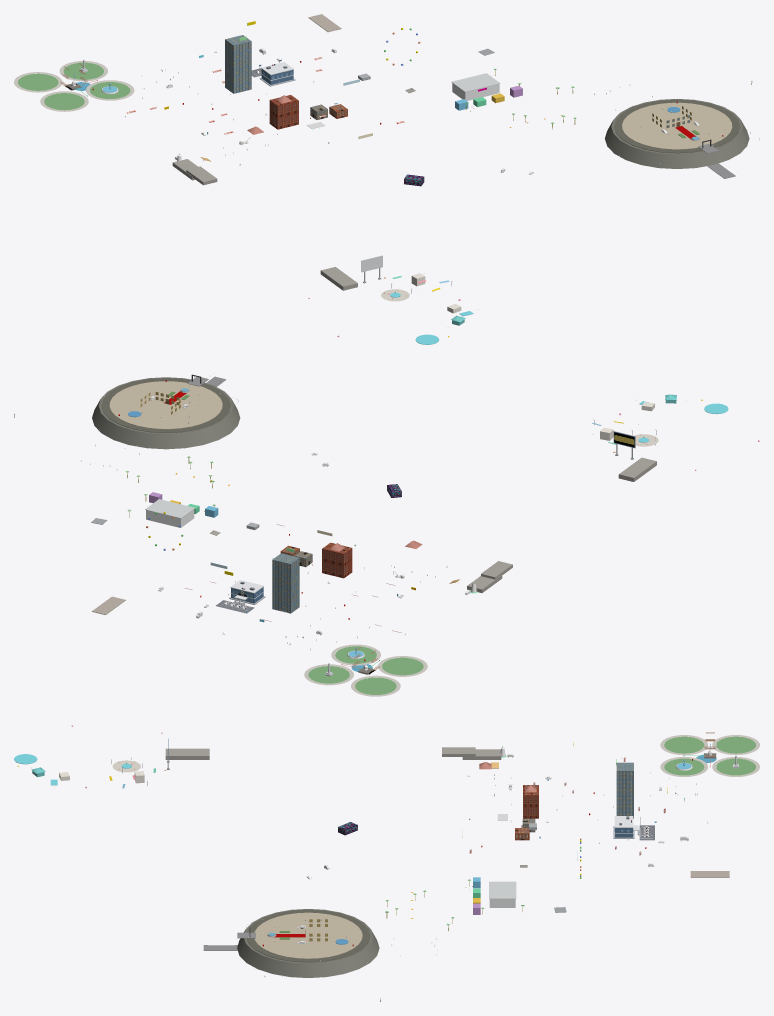
The model's file is tile_0_0.glb.
3 renders of one model, top to bottom at view 1: azimuth 30°, elevation 25°; view 2: azimuth 150°, elevation 25°; view 3: azimuth 270°, elevation 25°, orthographic. The views are drawn at different scales.
Parts seen in each view (by area): view 1: tile; view 2: tile; view 3: tile.
Part boxes in pixels (x1,y1,x2,y2): tile: [14, 14, 759, 344]; tile: [14, 373, 759, 696]; tile: [14, 725, 759, 1001].
Size of the model in its own units: 501 by 47.4 by 575.
155 materials, 27 textured.
